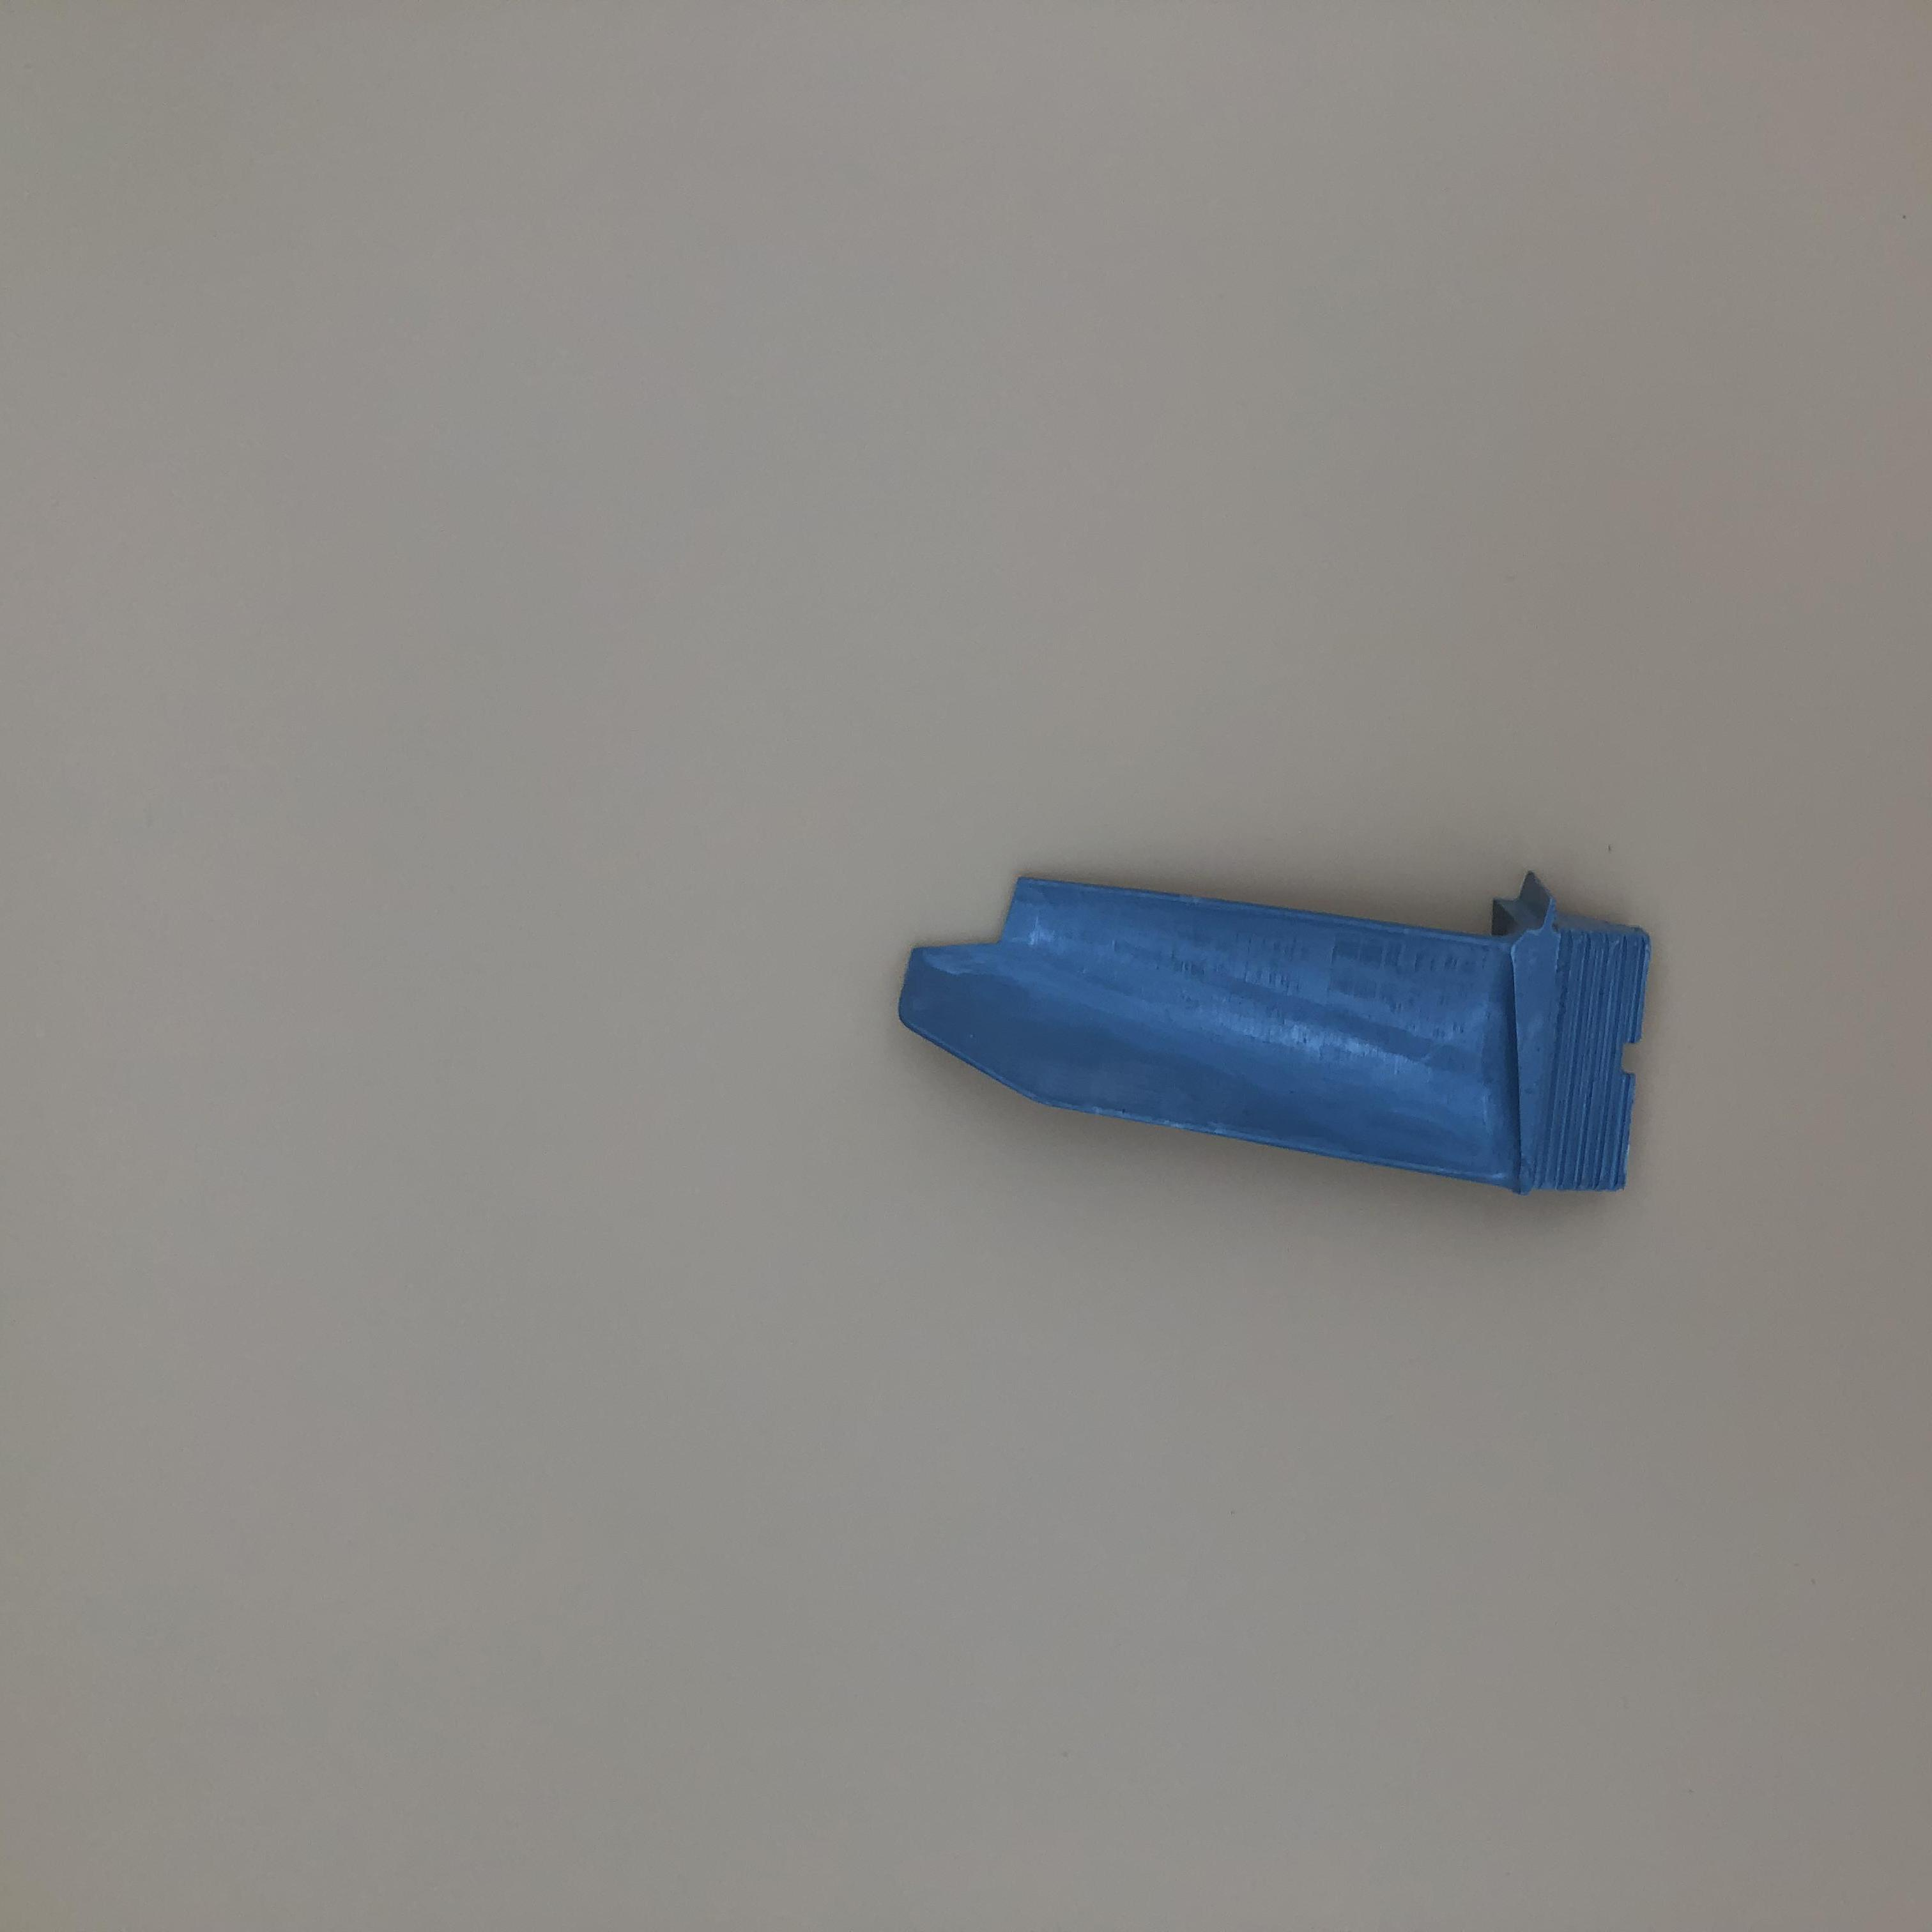fracture: (913, 893, 1095, 977)
